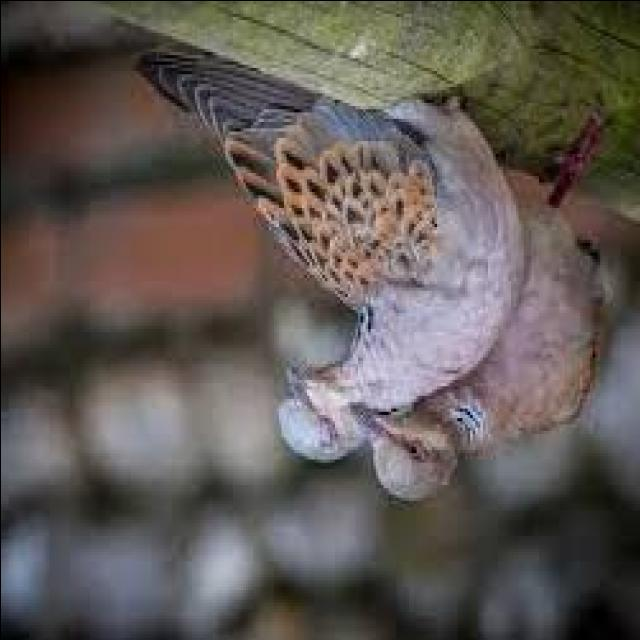pigeon: (173, 77, 516, 470)
